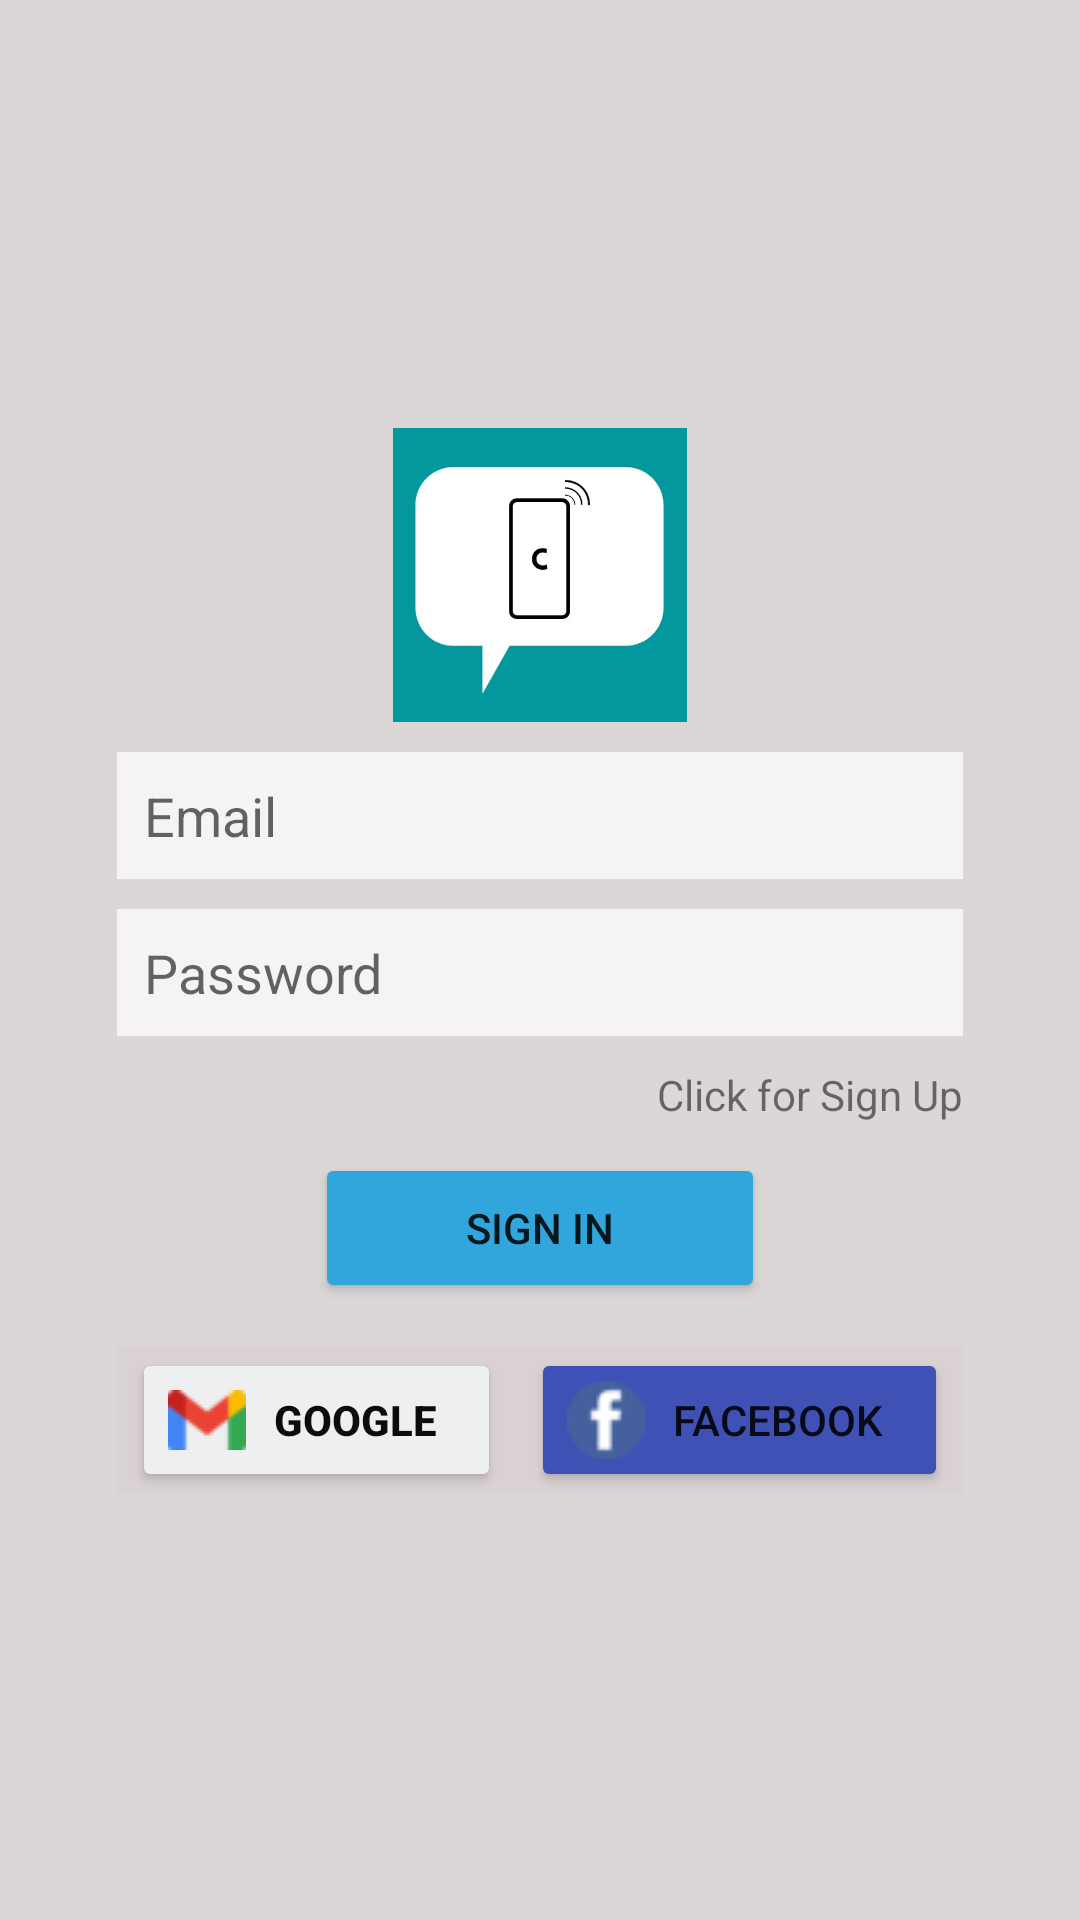

Locate icon controls on the screen. Image size 1080 x 1920, boxes as (x1, y1, x2, y2).
chatup: (393, 428, 687, 722)
